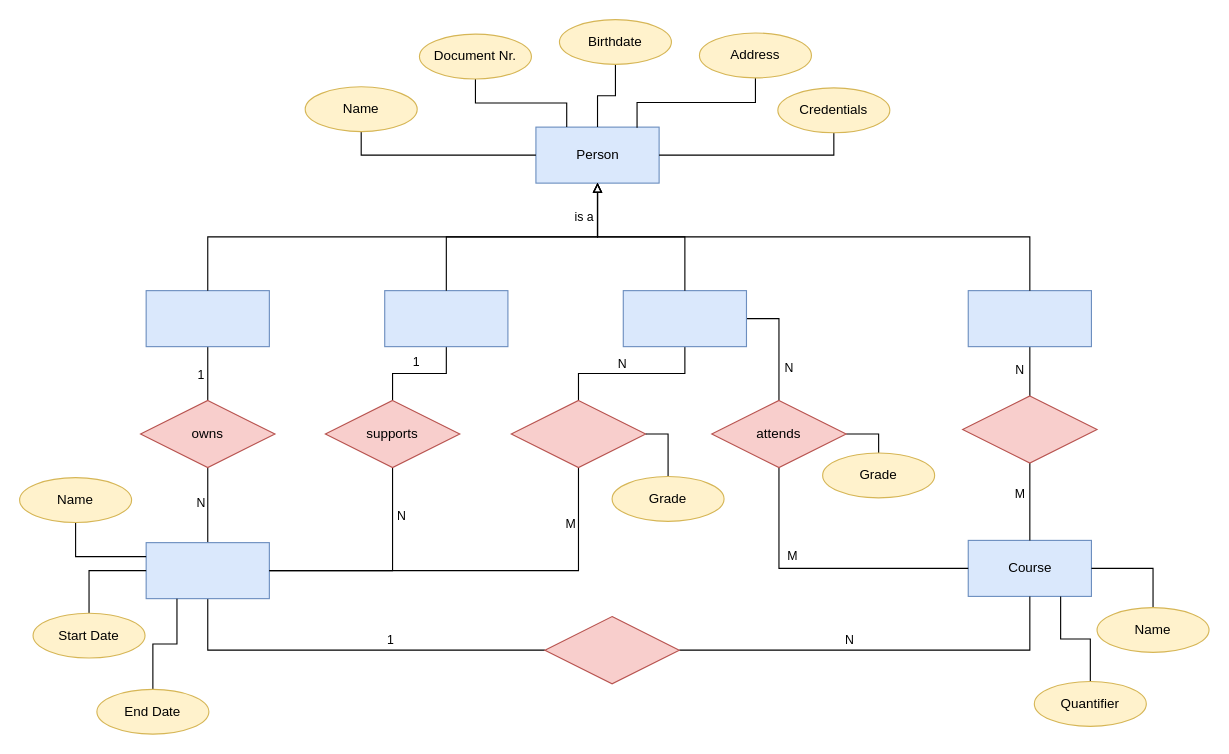
This 1229x754 diagram has some shape labels left out. The centre of each missing label's shape, as x and y in pixels:
Assistant: point (446, 318)
CAS: point (207, 570)
CAS Owner: point (207, 318)
contains: point (611, 649)
enrolls: point (578, 433)
Student: point (684, 318)
Teacher: point (1029, 318)
teaches: point (1029, 429)
